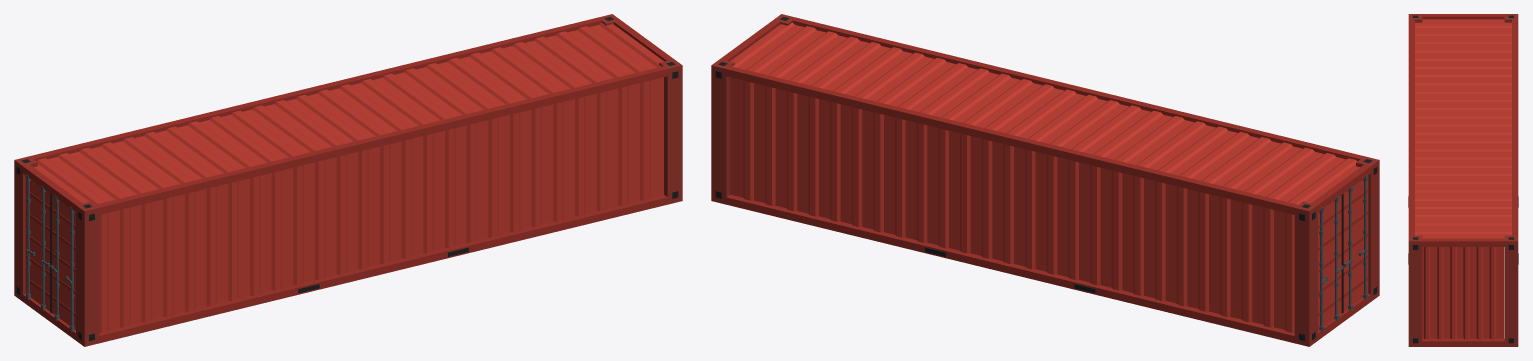
Rendered from clark q1 shipping container.fbx.
The picture shows the model from 3 angles, left to right: view 1: azimuth 30°, elevation 25°; view 2: azimuth 150°, elevation 25°; view 3: azimuth 270°, elevation 25°; orthographic projection. The views are drawn at different scales.
Parts seen in each view (by area): view 1: Corner_Post_1_1_Corner_Post_1_1_Mesh; view 2: Corner_Post_1_1_Corner_Post_1_1_Mesh; view 3: Corner_Post_1_1_Corner_Post_1_1_Mesh.
Part boxes in pixels (bbox=[...]): Corner_Post_1_1_Corner_Post_1_1_Mesh: bbox=[14, 14, 682, 346]; Corner_Post_1_1_Corner_Post_1_1_Mesh: bbox=[711, 14, 1379, 346]; Corner_Post_1_1_Corner_Post_1_1_Mesh: bbox=[1408, 14, 1518, 346].
Size of the model in its own units: 1202 by 261 by 246.
